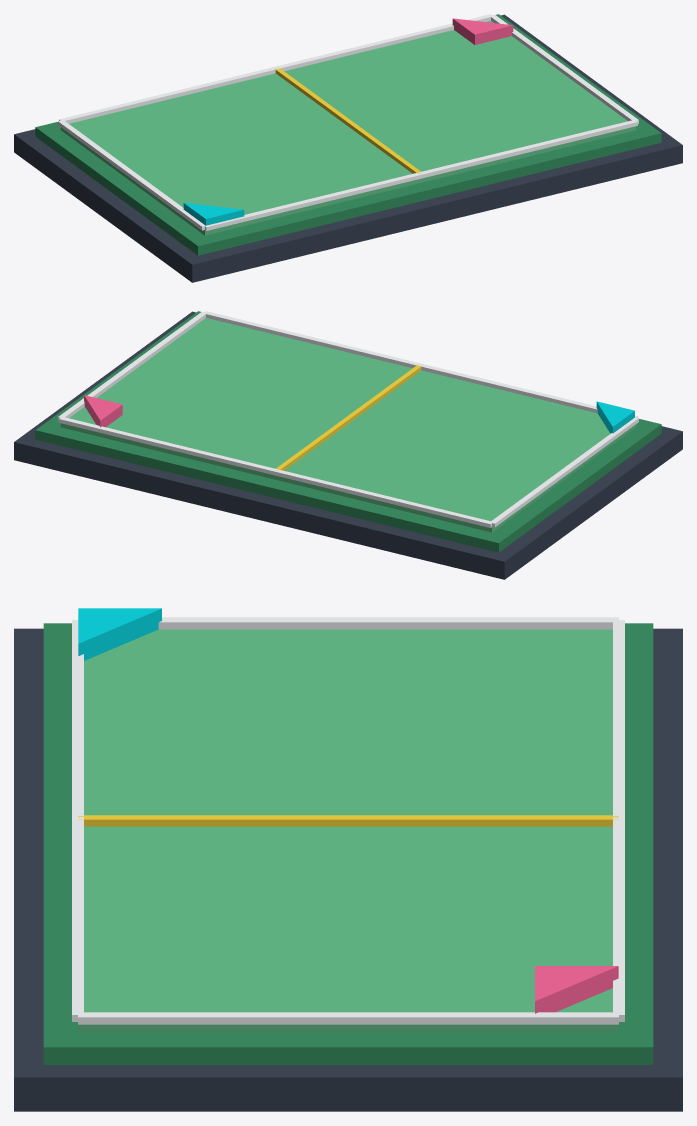
File: Court_Block.fbx
3 views of the same model, one above another, from view 1: azimuth 30°, elevation 25°; view 2: azimuth 150°, elevation 25°; view 3: azimuth 270°, elevation 25° (orthographic). The views are drawn at different scales.
Parts seen in each view (by area): view 1: Court_Block; view 2: Court_Block; view 3: Court_Block.
Boxes of the visible parts, box(x1,y1,x2,y2) form: Court_Block: box(14, 14, 682, 282); Court_Block: box(14, 311, 682, 579); Court_Block: box(14, 608, 682, 1111).
Bounding box in the file's own units: 1080 × 92 × 680.
